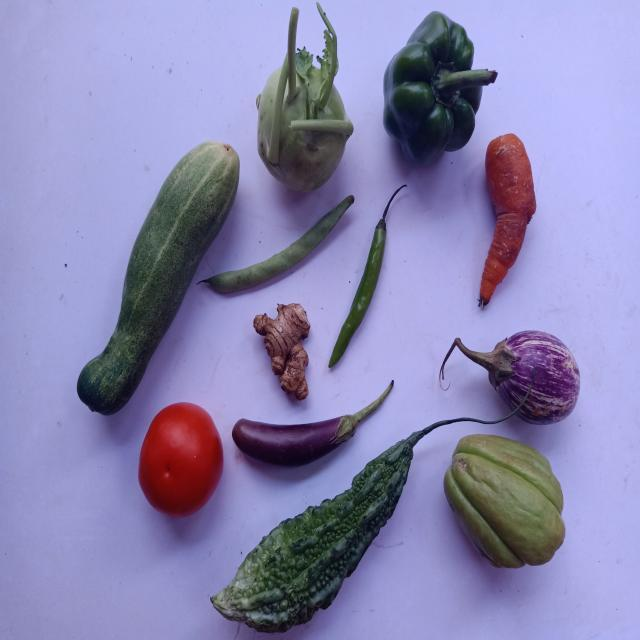Beans: (199, 194, 355, 292)
Bitter Gourd: (211, 417, 474, 633)
Brinjal: (232, 381, 394, 466), (253, 303, 310, 400)
Capsicum: (384, 10, 498, 164)
Carrot: (481, 133, 537, 306)
Chayote: (445, 435, 566, 568)
Cucumber: (76, 141, 239, 415)
Eggplant: (455, 330, 581, 425)
Ginger: (253, 303, 310, 400)
Green Chilly: (328, 184, 407, 367)
Tomato: (138, 403, 223, 518)
Turnip: (256, 2, 354, 191)
